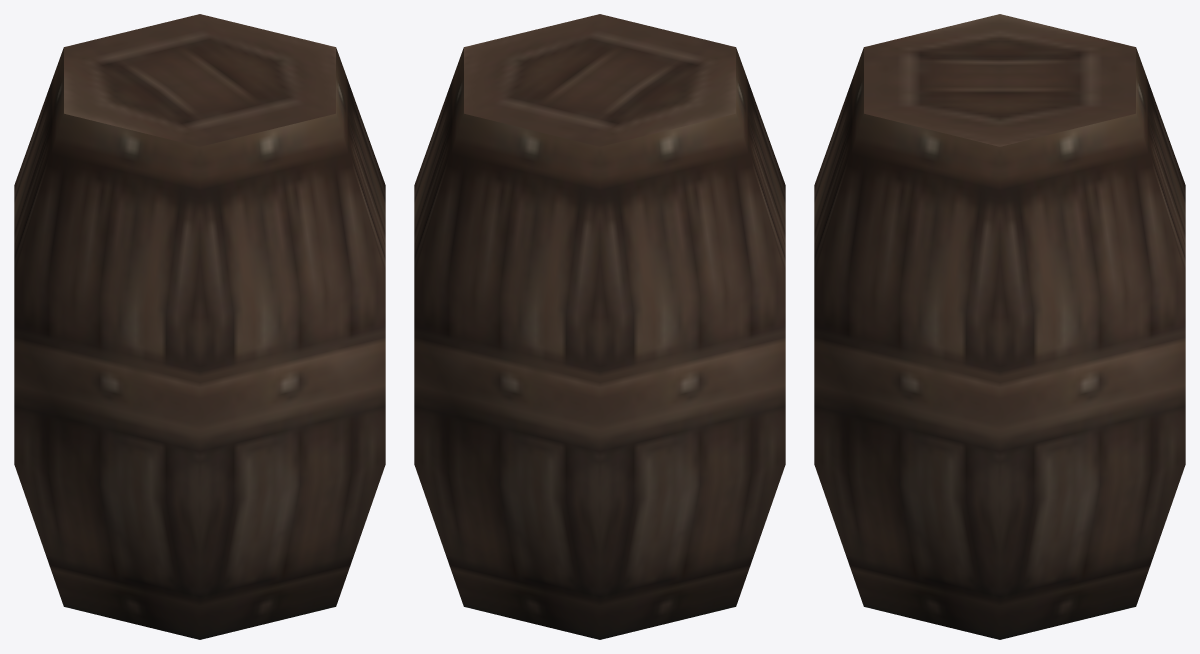
File: handan_field_a_r08.fbx
3 views of the same model, side by side, from view 1: azimuth 30°, elevation 25°; view 2: azimuth 150°, elevation 25°; view 3: azimuth 270°, elevation 25° (orthographic).
Visible parts, largest first — view 1: handan_field_a_r08; view 2: handan_field_a_r08; view 3: handan_field_a_r08.
Boxes of the visible parts, <box> form: handan_field_a_r08: <box>14,14,385,639</box>; handan_field_a_r08: <box>414,14,785,639</box>; handan_field_a_r08: <box>814,14,1185,639</box>.
Size of the model in its own units: 104 by 132 by 90.29.
